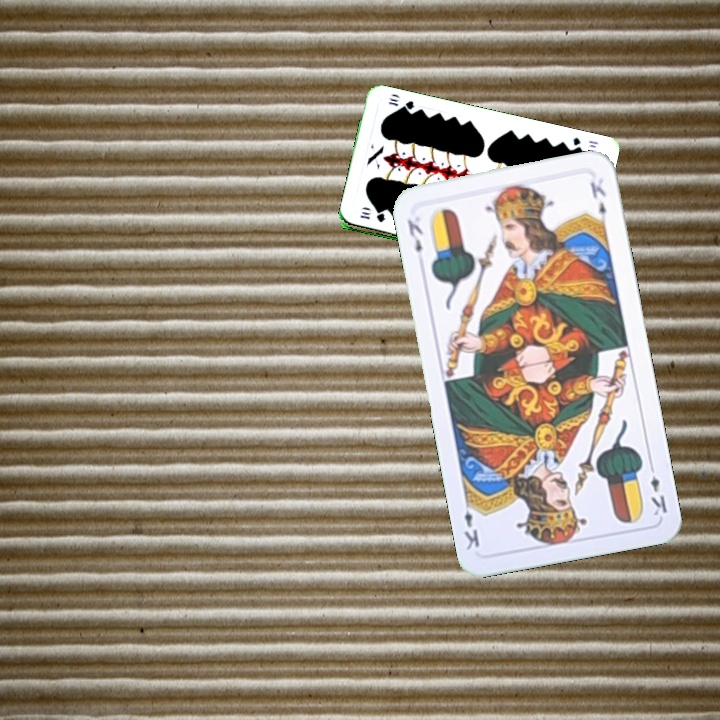EK: (645, 459, 670, 518), (403, 215, 426, 256)
G10: (568, 133, 601, 154), (356, 207, 387, 225)
